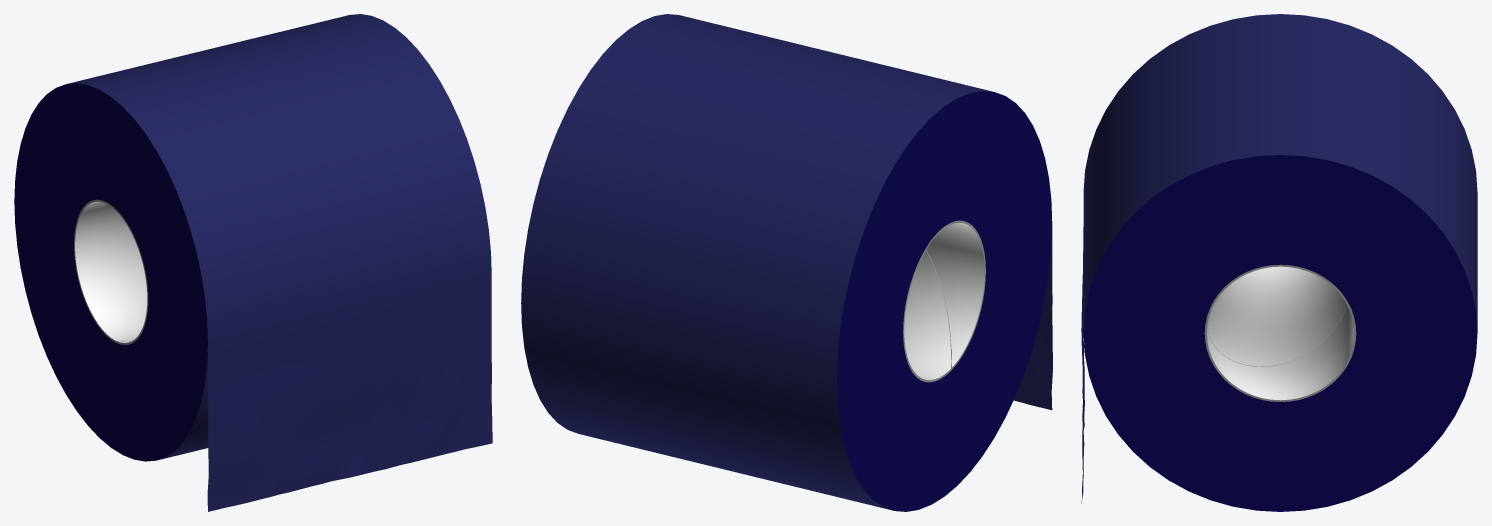
The model's file is 000117_V1_Piramide.glb.
The picture shows the model from 3 angles, left to right: view 1: azimuth 30°, elevation 25°; view 2: azimuth 150°, elevation 25°; view 3: azimuth 270°, elevation 25°; orthographic projection. The views are drawn at different scales.
Size of the model in its own units: 0.11 by 0.13 by 0.1307.
Materials: 5 (3 with a texture image).
